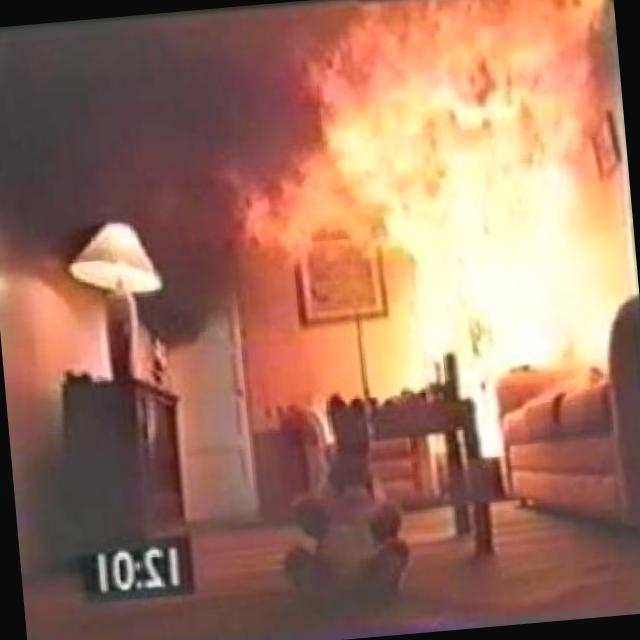fire: (320, 0, 637, 426)
smoke: (0, 12, 335, 401)
